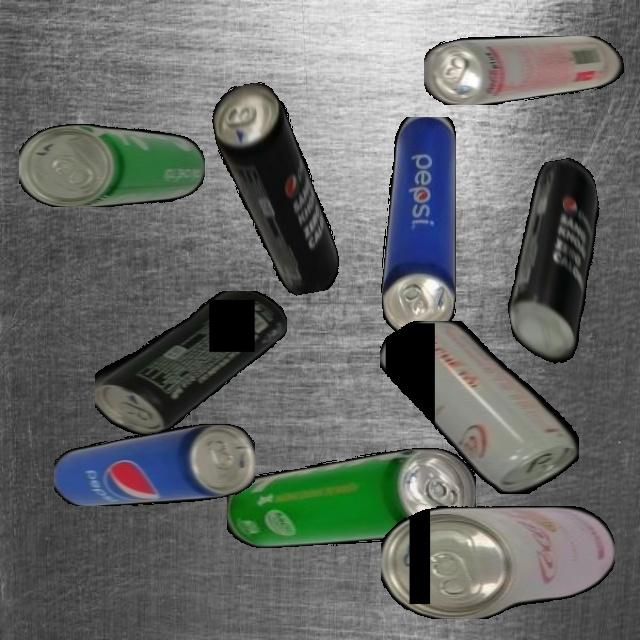debris: (380, 320, 579, 494), (208, 74, 343, 304), (485, 155, 625, 375), (94, 291, 287, 435), (381, 505, 615, 619), (226, 448, 476, 548), (380, 116, 456, 335), (53, 424, 255, 506), (19, 123, 205, 207), (424, 35, 628, 105)
